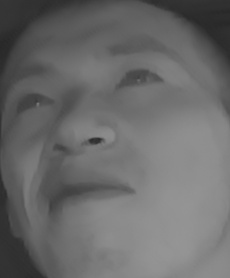eye: (115, 62, 167, 101), (7, 88, 54, 121)
mouth: (38, 163, 137, 220)
